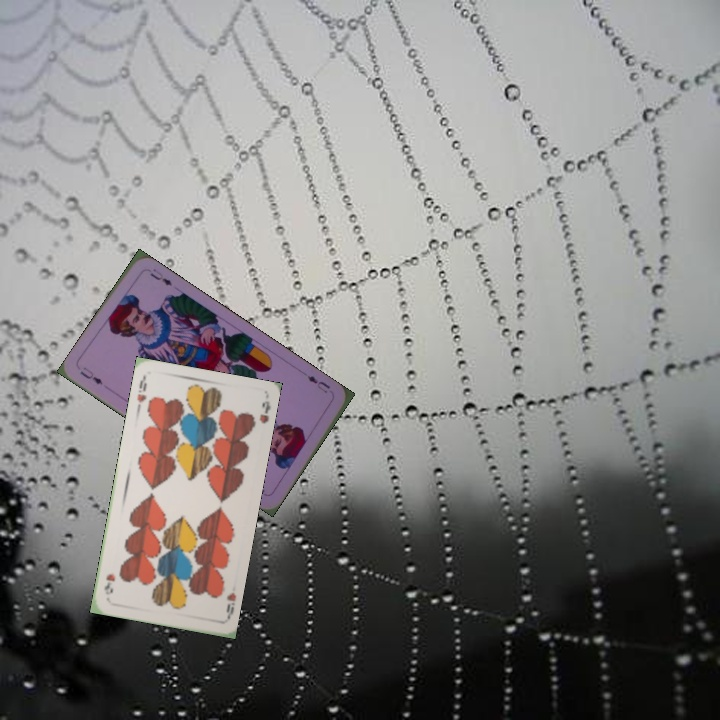EU: (303, 371, 333, 396), (76, 363, 106, 388)
H9: (222, 589, 239, 621), (133, 373, 149, 405)
